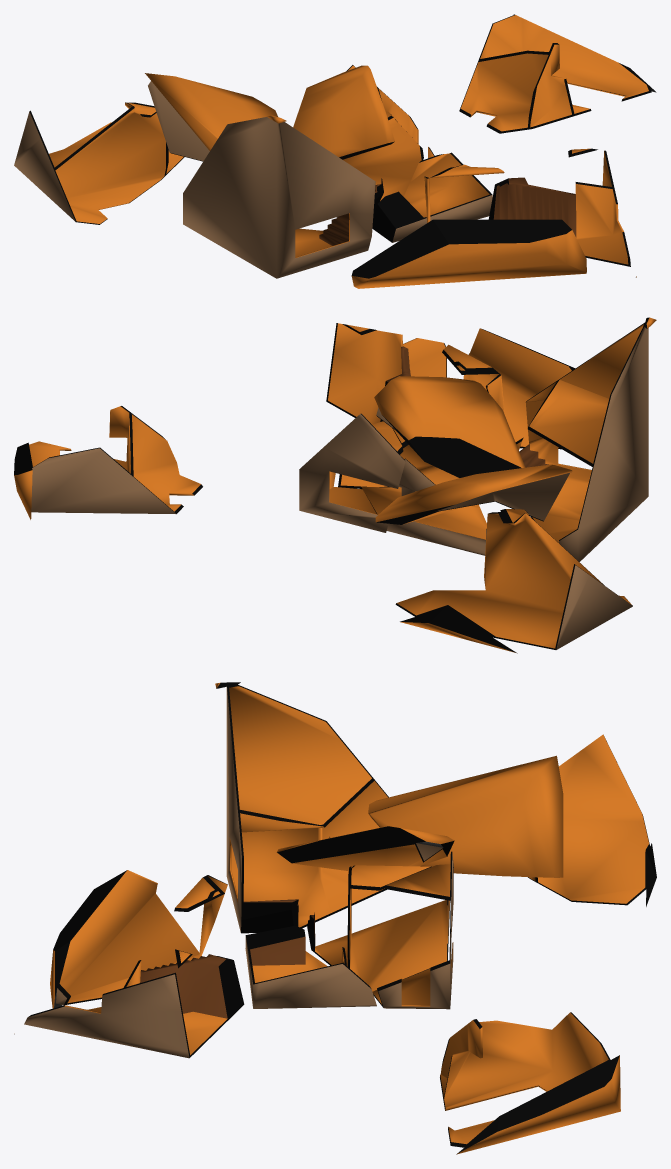
File: brokenHouse2.fbx
3 views of the same model, one above another, from view 1: azimuth 30°, elevation 25°; view 2: azimuth 150°, elevation 25°; view 3: azimuth 270°, elevation 25° (orthographic). The views are drawn at different scales.
Visible parts, largest first — view 1: Cube; view 2: Cube; view 3: Cube.
Part boxes in pixels (x1,y1,x2,y2): Cube: (14,14,656,288); Cube: (14,317,656,653); Cube: (14,682,656,1154).
Bounding box in the file's own units: 6878 × 1874 × 5613.
